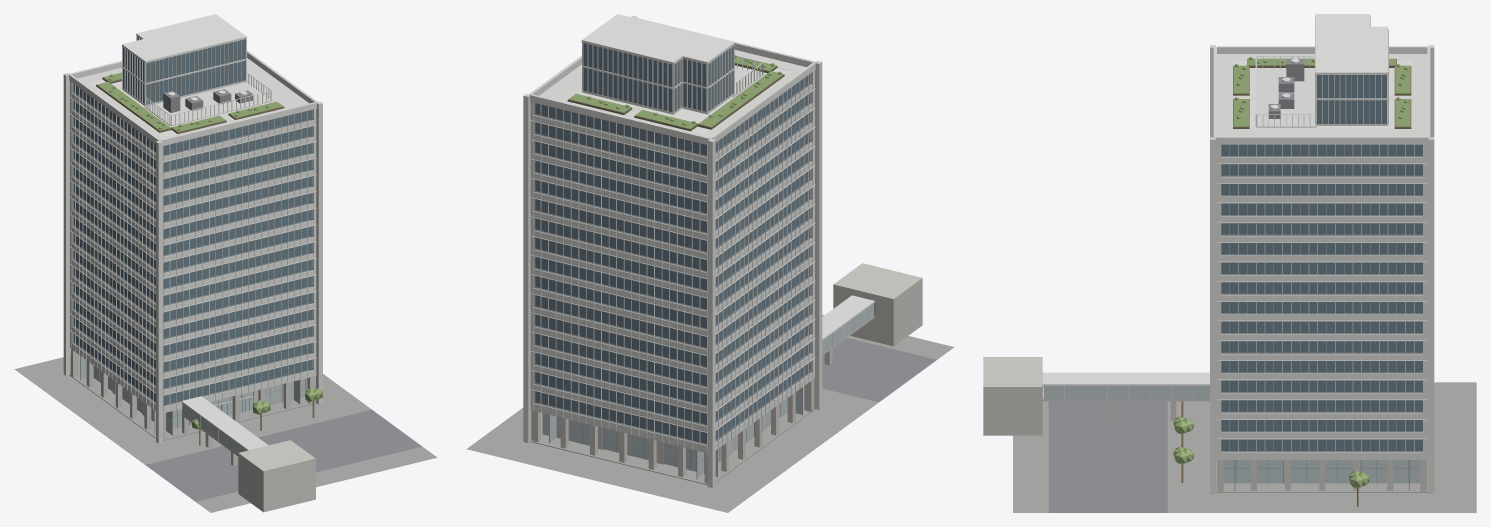
Rendered from clay-plus15-glass-office-tower-clay-v004.glb.
3 views of the same model, side by side, from view 1: azimuth 30°, elevation 25°; view 2: azimuth 150°, elevation 25°; view 3: azimuth 270°, elevation 25° (orthographic). The views are drawn at different scales.
Parts seen in each view (by area): view 1: CLAY_GLASS, CLAY_PALE, CLAY_BLUE, CLAY_METAL, CLAY_FOUNDATION, CLAY_HARDWARE, CLAY_CONCRETE, CLAY_FLOOR, CLAY_MEMBRANE, CLAY_LIGHTGLASS, CLAY_PLANTING, CLAY_SOIL; view 2: CLAY_GLASS, CLAY_BLUE, CLAY_PALE, CLAY_METAL, CLAY_FOUNDATION, CLAY_CONCRETE, CLAY_FLOOR, CLAY_HARDWARE, CLAY_MEMBRANE, CLAY_LIGHTGLASS, CLAY_PLANTING, CLAY_SOIL; view 3: CLAY_GLASS, CLAY_PALE, CLAY_BLUE, CLAY_FOUNDATION, CLAY_METAL, CLAY_HARDWARE, CLAY_CONCRETE, CLAY_LIGHTGLASS, CLAY_MEMBRANE, CLAY_FLOOR, CLAY_PLANTING, CLAY_SOIL.
Part boxes in pixels (box(x1,y1,x2,y2)): CLAY_GLASS: box(72, 37, 313, 406); CLAY_PALE: box(63, 34, 322, 443); CLAY_BLUE: box(74, 37, 312, 404); CLAY_METAL: box(69, 36, 316, 454); CLAY_FOUNDATION: box(14, 355, 436, 512); CLAY_HARDWARE: box(80, 89, 421, 501); CLAY_CONCRETE: box(70, 349, 315, 512); CLAY_FLOOR: box(77, 95, 309, 405); CLAY_MEMBRANE: box(90, 14, 307, 136); CLAY_LIGHTGLASS: box(81, 356, 305, 454); CLAY_PLANTING: box(97, 72, 322, 429); CLAY_SOIL: box(96, 77, 284, 133); CLAY_GLASS: box(533, 43, 875, 445); CLAY_BLUE: box(535, 43, 809, 443); CLAY_PALE: box(523, 15, 822, 487); CLAY_METAL: box(530, 42, 874, 453); CLAY_FOUNDATION: box(466, 315, 954, 512); CLAY_CONCRETE: box(531, 263, 922, 483); CLAY_FLOOR: box(538, 86, 806, 441); CLAY_HARDWARE: box(542, 338, 936, 478); CLAY_MEMBRANE: box(539, 14, 791, 134); CLAY_LIGHTGLASS: box(543, 303, 873, 477); CLAY_PLANTING: box(568, 55, 810, 368); CLAY_SOIL: box(567, 63, 784, 131); CLAY_GLASS: box(1042, 75, 1422, 452); CLAY_PALE: box(1210, 45, 1434, 494); CLAY_BLUE: box(1221, 75, 1422, 450); CLAY_FOUNDATION: box(1013, 382, 1476, 512); CLAY_METAL: box(1042, 17, 1427, 460); CLAY_HARDWARE: box(1048, 58, 1419, 512); CLAY_CONCRETE: box(983, 357, 1427, 491); CLAY_LIGHTGLASS: box(1044, 386, 1420, 483); CLAY_MEMBRANE: box(1217, 14, 1427, 136); CLAY_FLOOR: box(1221, 156, 1422, 451); CLAY_PLANTING: box(1173, 57, 1410, 488); CLAY_SOIL: box(1233, 59, 1411, 128).
Size of the model in its own units: 52 by 75.06 by 83.
